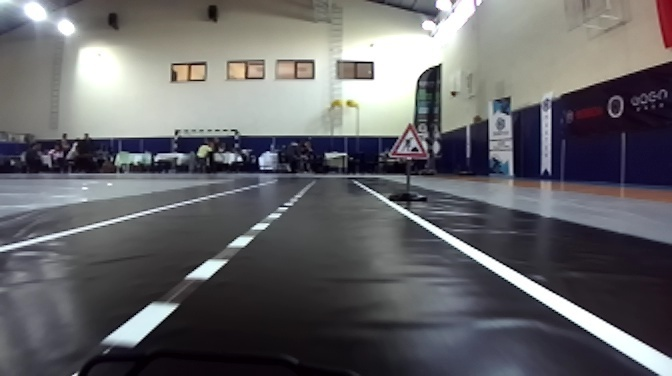yol_yapimi: (385, 122, 429, 160)
